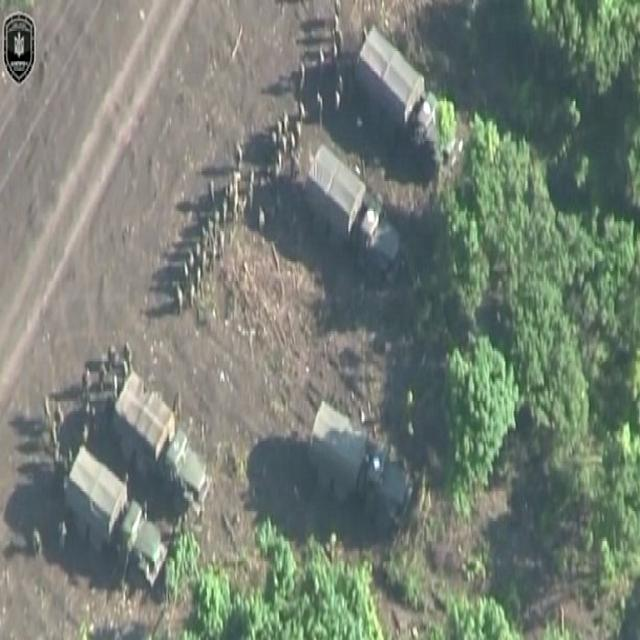TRUCK: (61, 444, 168, 592), (354, 24, 454, 168), (307, 398, 411, 531), (112, 373, 212, 511), (304, 144, 401, 286)
